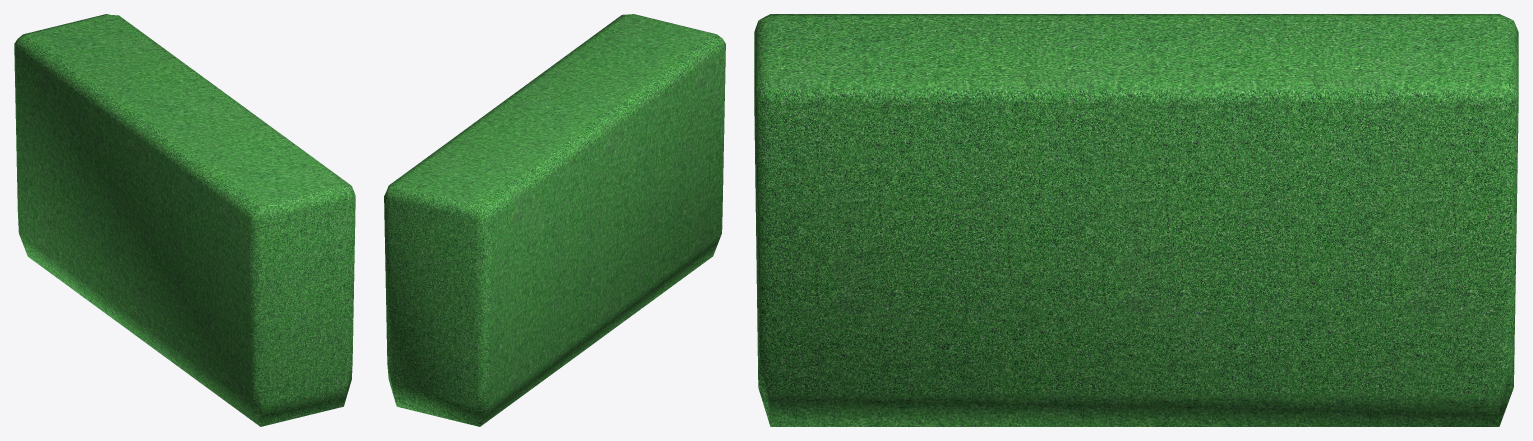
The model's file is Hedge 2m.FBX.
3 views of the same model, side by side, from view 1: azimuth 30°, elevation 25°; view 2: azimuth 150°, elevation 25°; view 3: azimuth 270°, elevation 25° (orthographic). The views are drawn at different scales.
Visible parts, largest first — view 1: Hedge 2m; view 2: Hedge 2m; view 3: Hedge 2m.
Part boxes in pixels (bbox=[...]): Hedge 2m: bbox=[14, 14, 355, 426]; Hedge 2m: bbox=[384, 14, 725, 426]; Hedge 2m: bbox=[754, 14, 1518, 426].
Size of the model in its own units: 19.69 by 39.37 by 78.74.
1 material, 1 textured.
